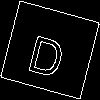D: (25, 25, 70, 79)
